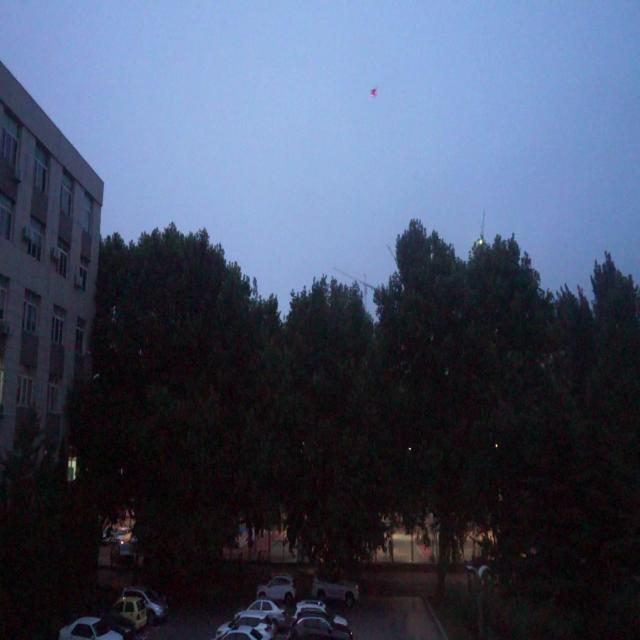drone: (366, 85, 380, 100)
